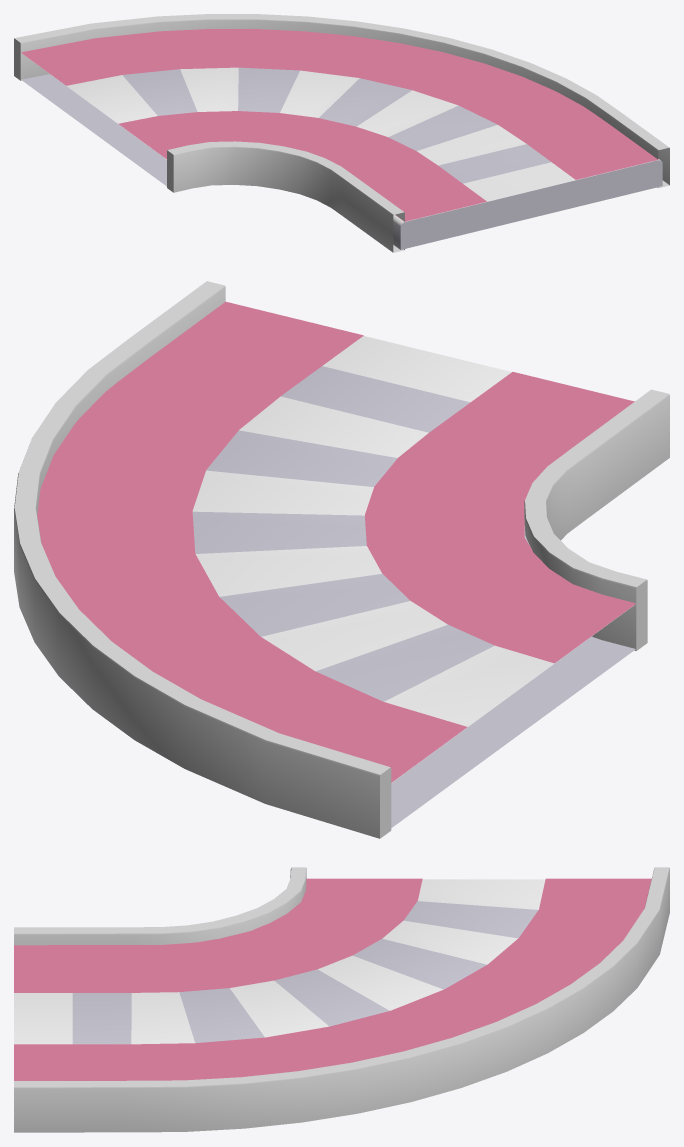
Rendered from Platform_Turn_Left.fbx.
The picture shows the model from 3 angles, top to bottom: view 1: azimuth 30°, elevation 25°; view 2: azimuth 150°, elevation 25°; view 3: azimuth 270°, elevation 25°; orthographic projection. The views are drawn at different scales.
Parts seen in each view (by area): view 1: Platform_Turn_Left, Floor_Right_Side, Platform_Turn_Left_Sides, Floor_Left_Side; view 2: Platform_Turn_Left, Floor_Right_Side, Platform_Turn_Left_Sides, Floor_Left_Side; view 3: Platform_Turn_Left_Sides, Platform_Turn_Left, Floor_Right_Side, Floor_Left_Side.
Part boxes in pixels (x1,y1,x2,y2): Platform_Turn_Left: [21, 56, 662, 249]; Floor_Right_Side: [21, 29, 658, 179]; Platform_Turn_Left_Sides: [14, 14, 669, 252]; Floor_Left_Side: [118, 111, 486, 221]; Platform_Turn_Left: [192, 336, 635, 827]; Floor_Right_Side: [37, 301, 467, 782]; Platform_Turn_Left_Sides: [14, 281, 669, 838]; Floor_Left_Side: [365, 372, 635, 663]; Platform_Turn_Left_Sides: [14, 867, 669, 1132]; Platform_Turn_Left: [14, 879, 545, 1044]; Floor_Right_Side: [14, 878, 651, 1080]; Floor_Left_Side: [14, 878, 422, 992].
Size of the model in its own units: 1318 by 126 by 1661.
